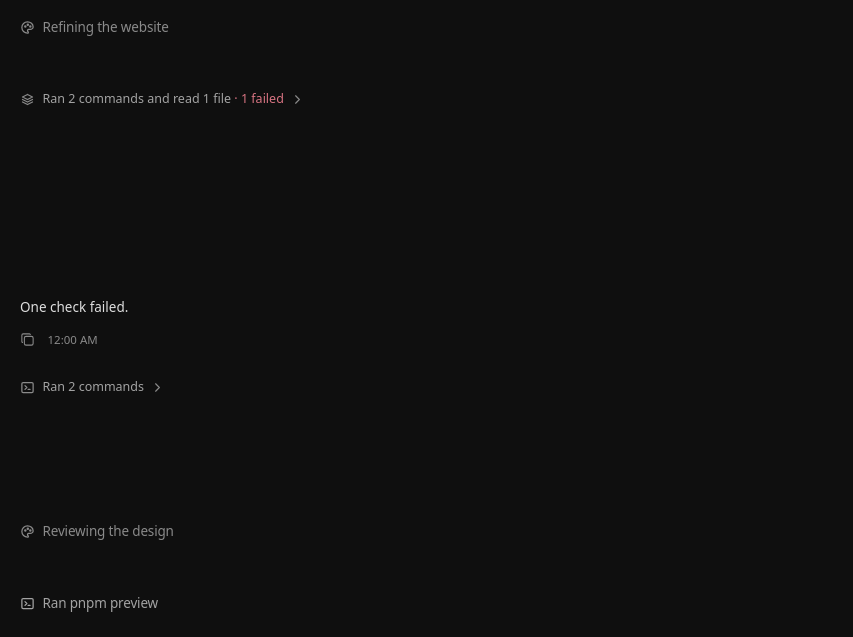
Test: design activity rows › batches provider work between Design notes and phases
Check: the text "Refining the website" is shown, box [42,16,169,37]
Check: the text "One check failed." is shown, box [20,298,128,316]
Click the button "Ran 2 commands".
click(92, 389)  # box [16,374,167,404]
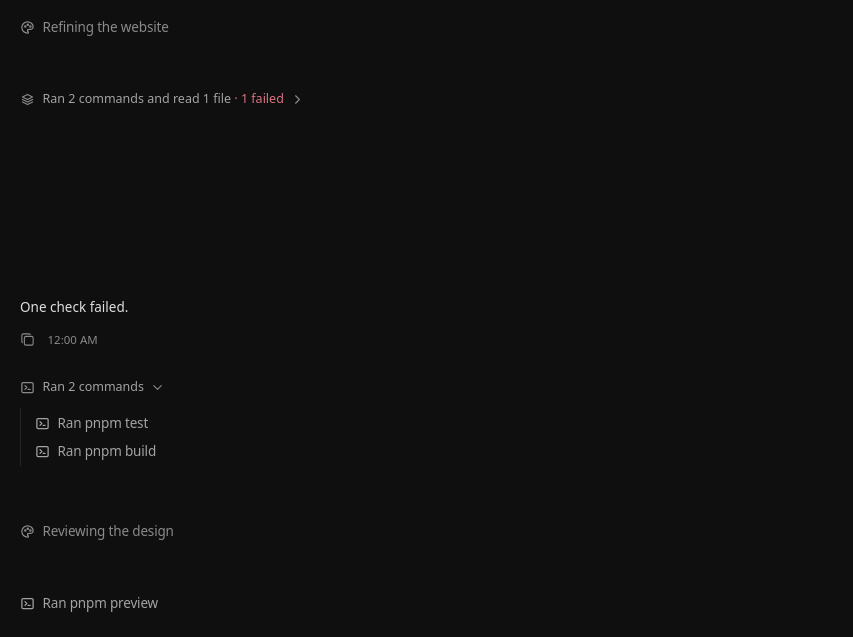
Check: the text "Ran pnpm build" is shown, box [58,440,156,461]
